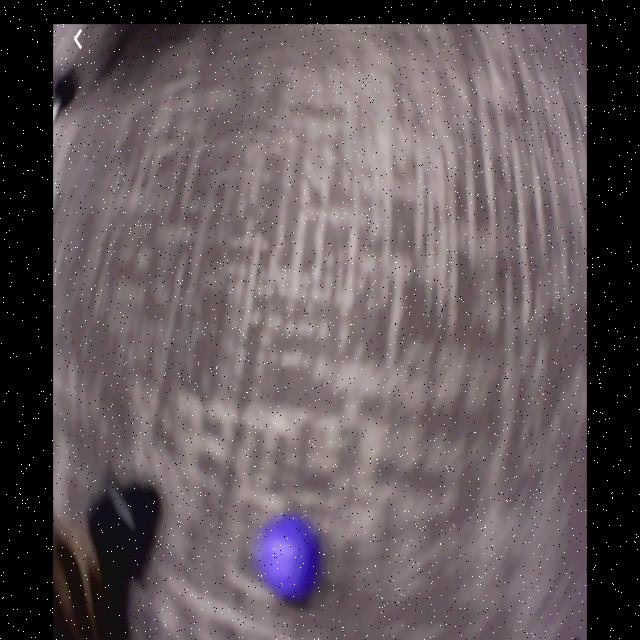ball: (258, 513, 315, 596)
